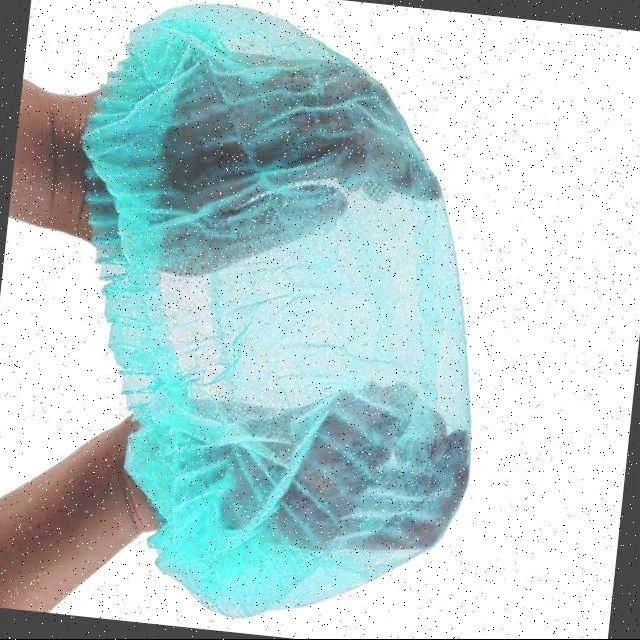gloves: (78, 0, 494, 640)
